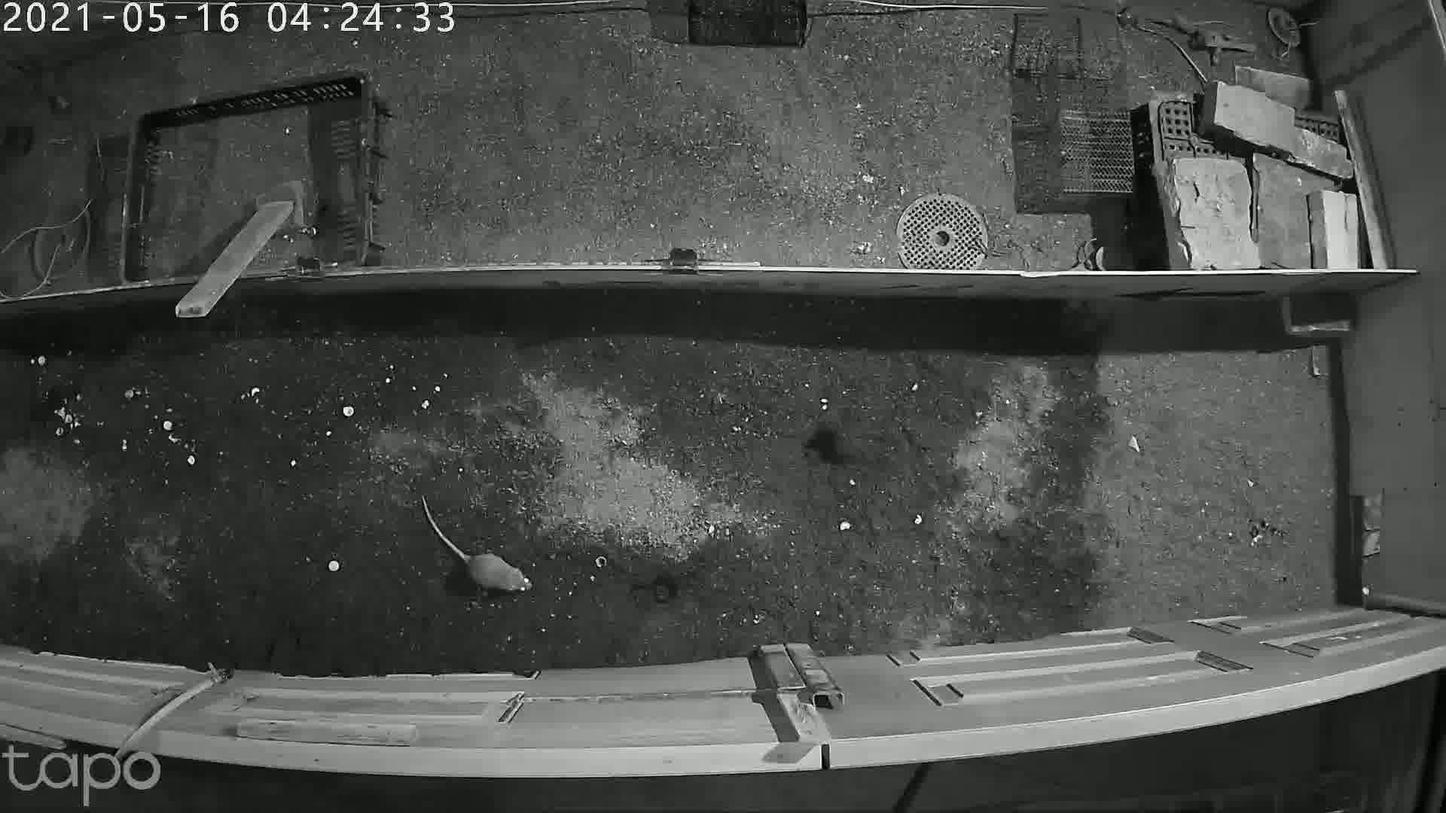rat: (394, 480, 544, 625), (1115, 1, 1233, 41)
